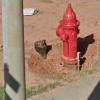a fire hydrant: (56, 3, 85, 64)
